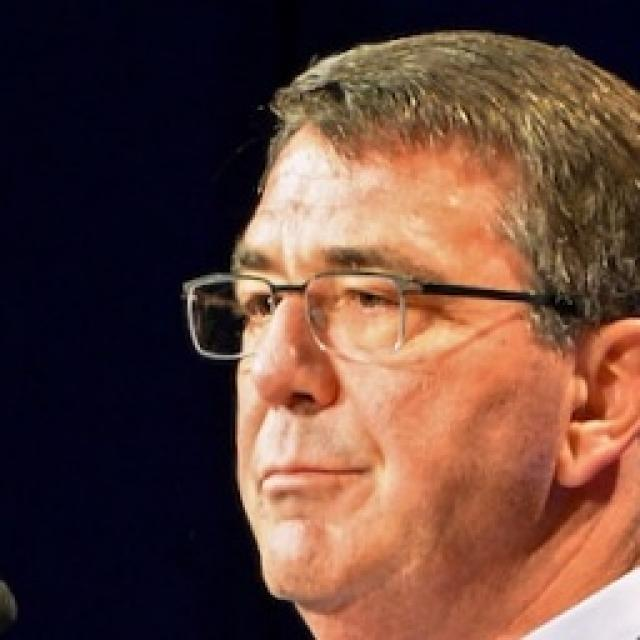glasses: (176, 257, 558, 374)
